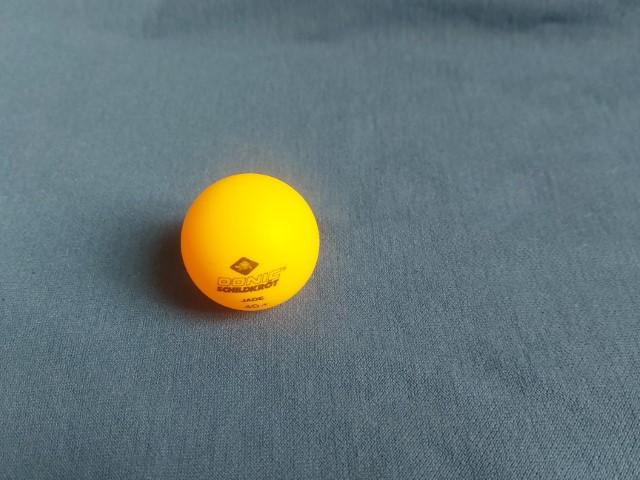oball: (174, 169, 324, 319)
